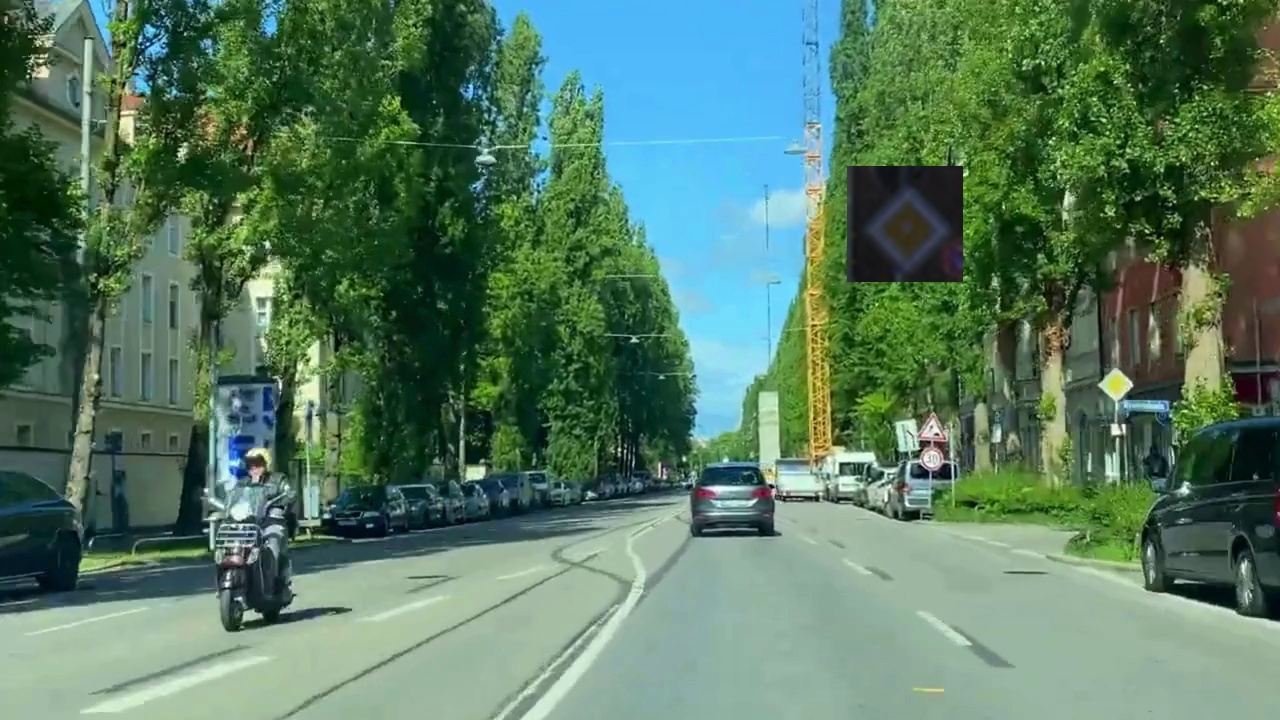Priority road: (847, 166, 963, 282)
